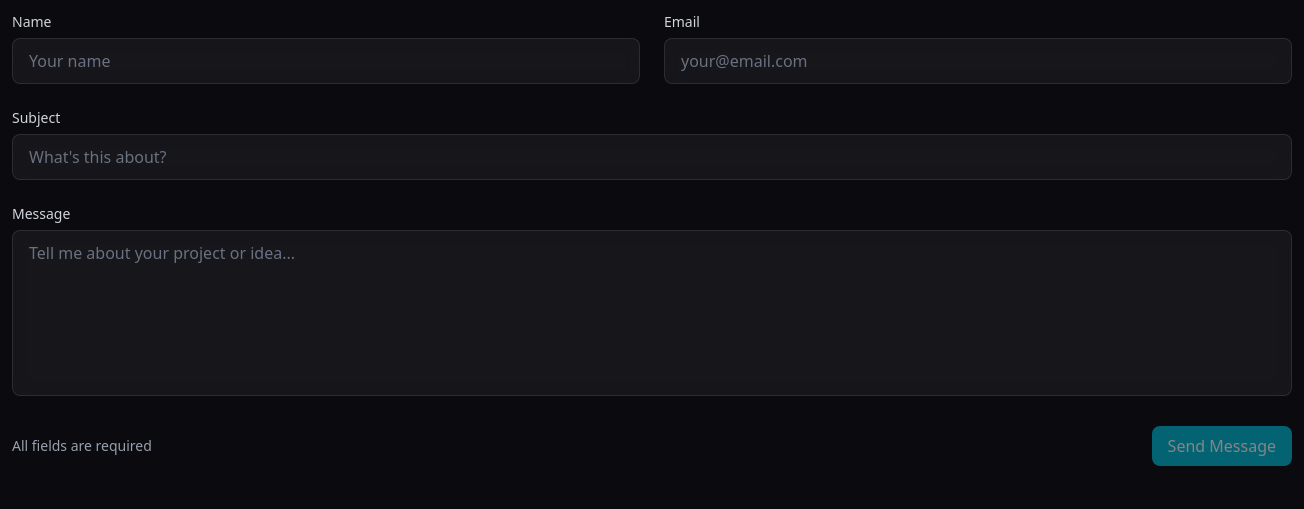
ContactForm › shows validation error for short message
In the text box labelled "Message": {"x": 652, "y": 313} [12, 230, 1292, 396], type "Short"
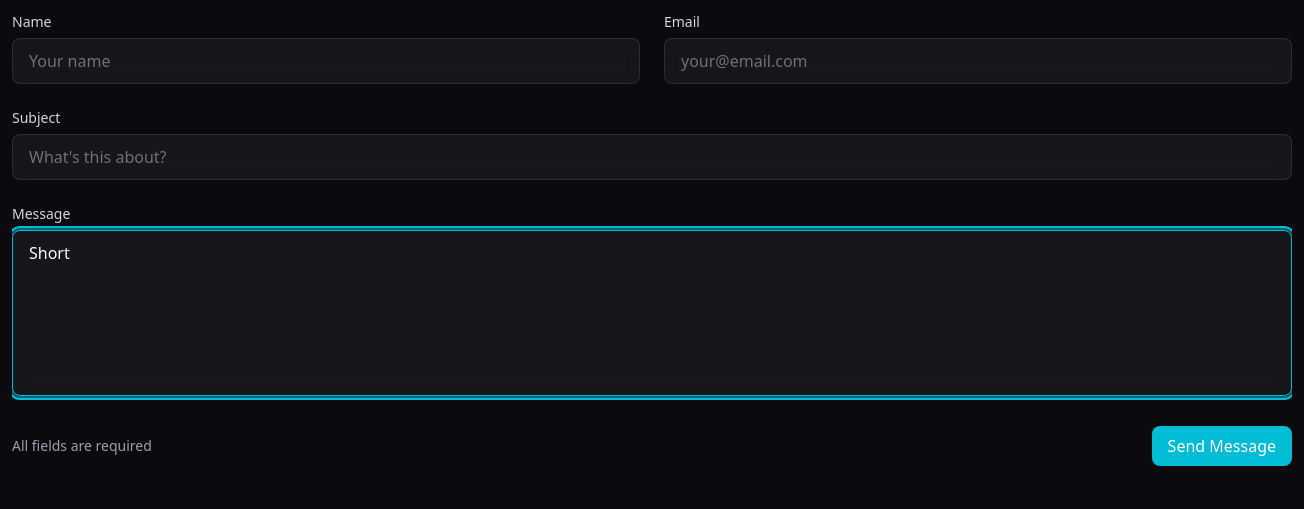
Press Tab
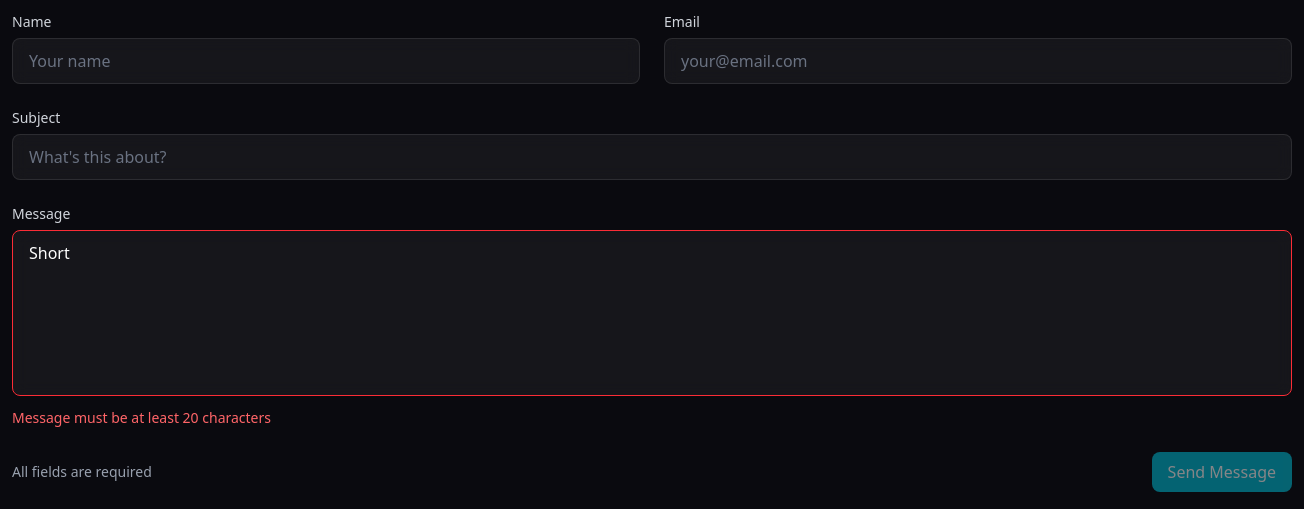
Now the text "Message must be at least 20 characters" is shown, box [12, 408, 271, 427]
